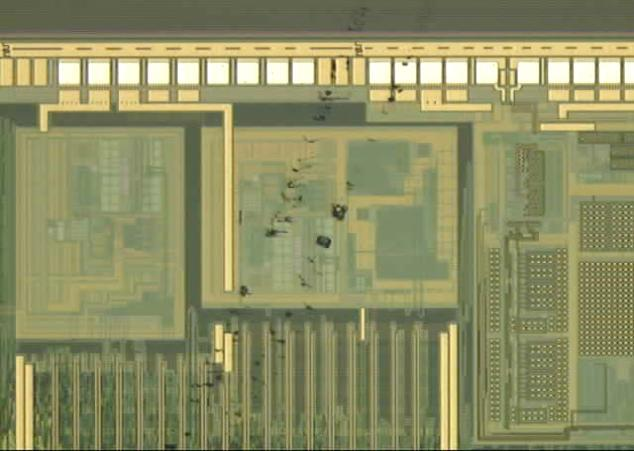SCRATCH: (164, 2, 423, 451)
